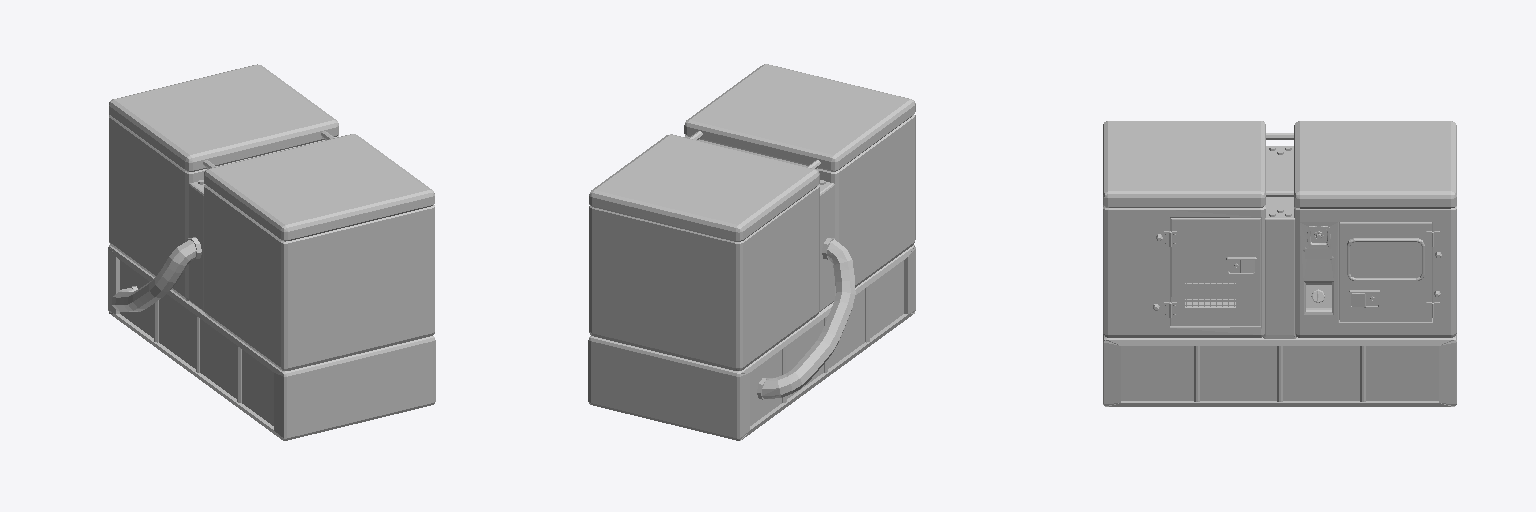
Rendered from gen.obj.
The picture shows the model from 3 angles: view 1: azimuth 30°, elevation 25°; view 2: azimuth 150°, elevation 25°; view 3: azimuth 270°, elevation 25°; orthographic projection.
Visible parts, largest first — view 1: Generator_Cube.001_Cube.001; view 2: Generator_Cube.001_Cube.001; view 3: Generator_Cube.001_Cube.001.
Boxes of the visible parts, <box> form: Generator_Cube.001_Cube.001: <box>108,64,435,440</box>; Generator_Cube.001_Cube.001: <box>588,64,915,440</box>; Generator_Cube.001_Cube.001: <box>1103,121,1456,406</box>.
Bounding box in the file's own units: 23.08 × 24.4 × 36.44.